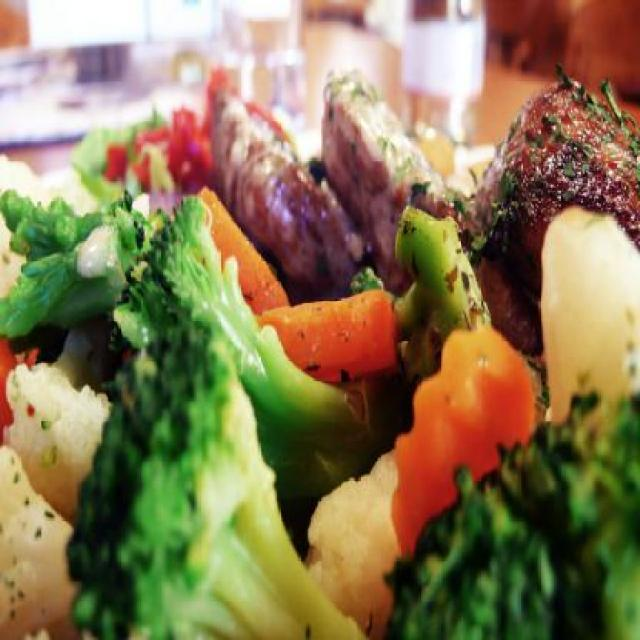Broccoli: (64, 314, 364, 640), (110, 193, 372, 481), (382, 392, 640, 640), (353, 203, 489, 343)
